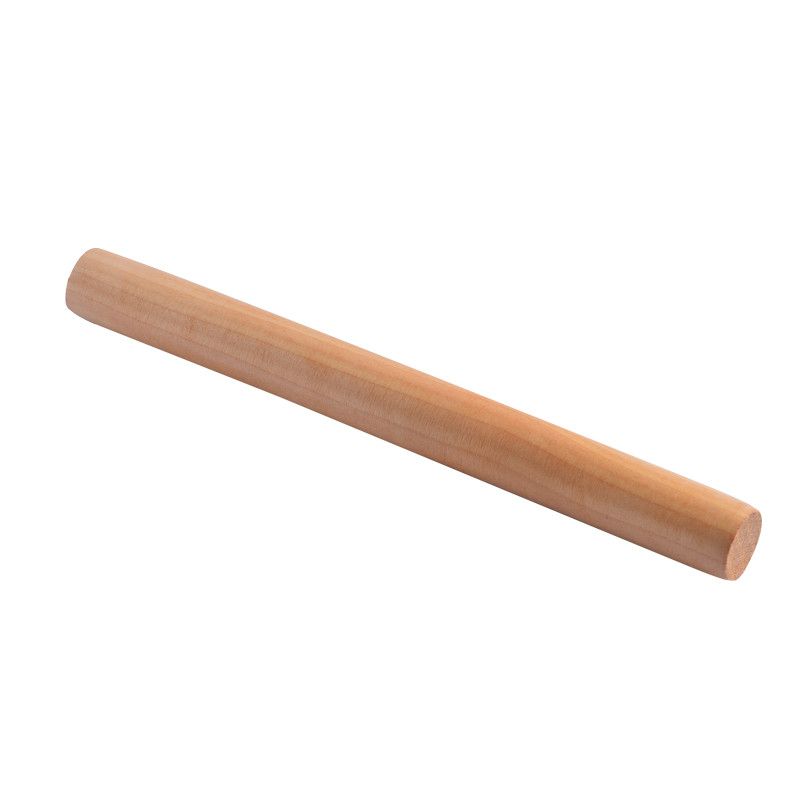straight_bar: (41, 218, 779, 607)
